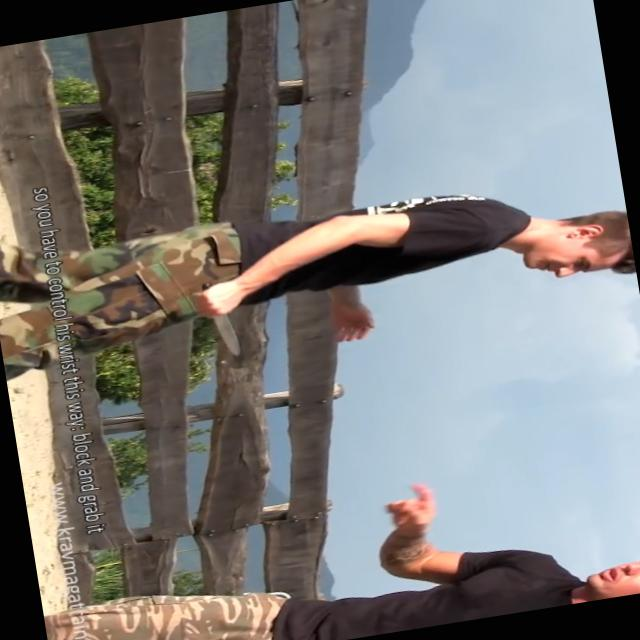knife: (182, 277, 250, 370)
